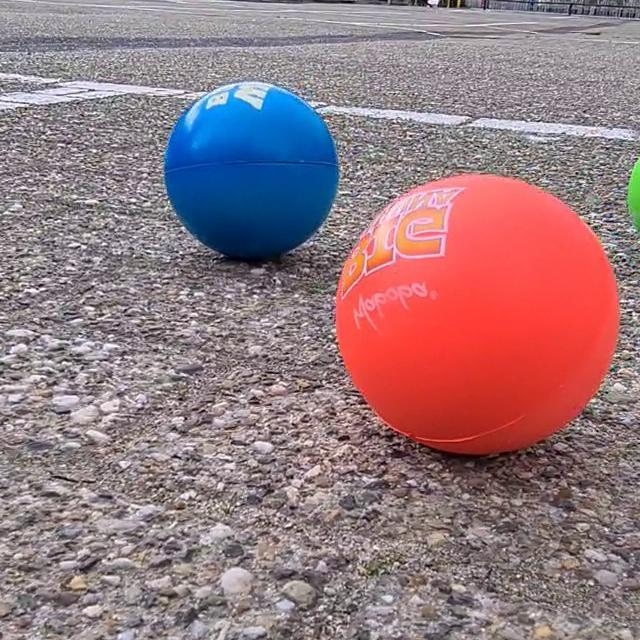ball: (160, 79, 343, 264)
